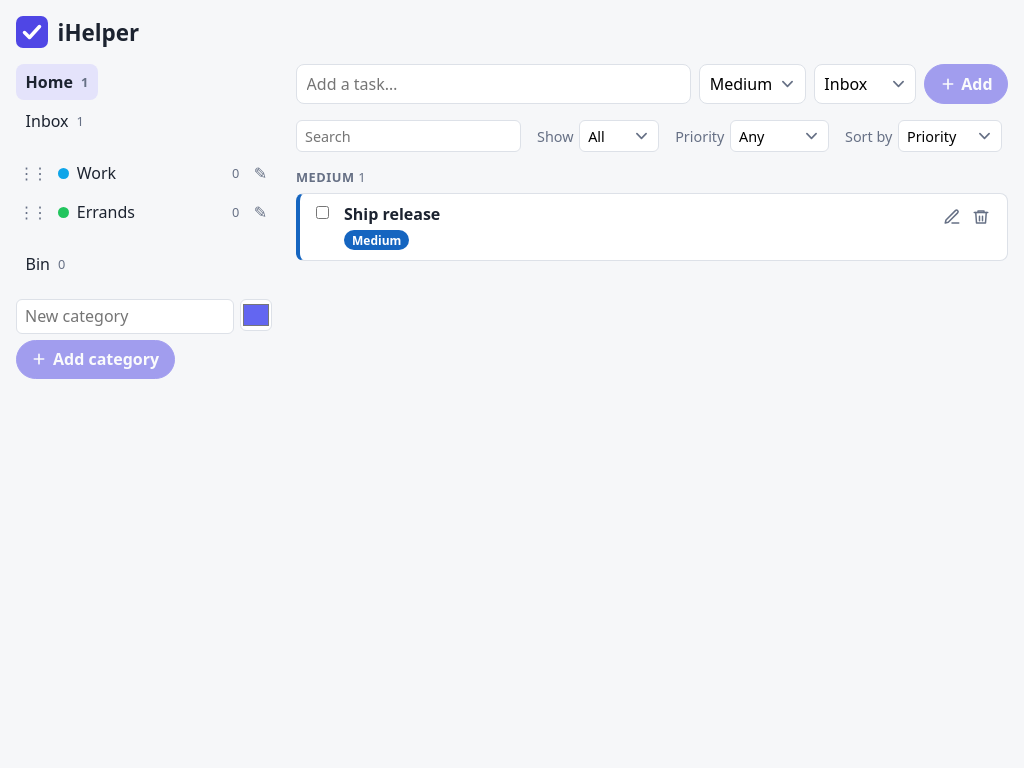
Test: App › deleting from the editor also moves the task to the bin
The width and height of the screenshot is (1024, 768).
Click the button named "Edit Ship release": (952, 217) x1=938 y1=203 x2=966 y2=231
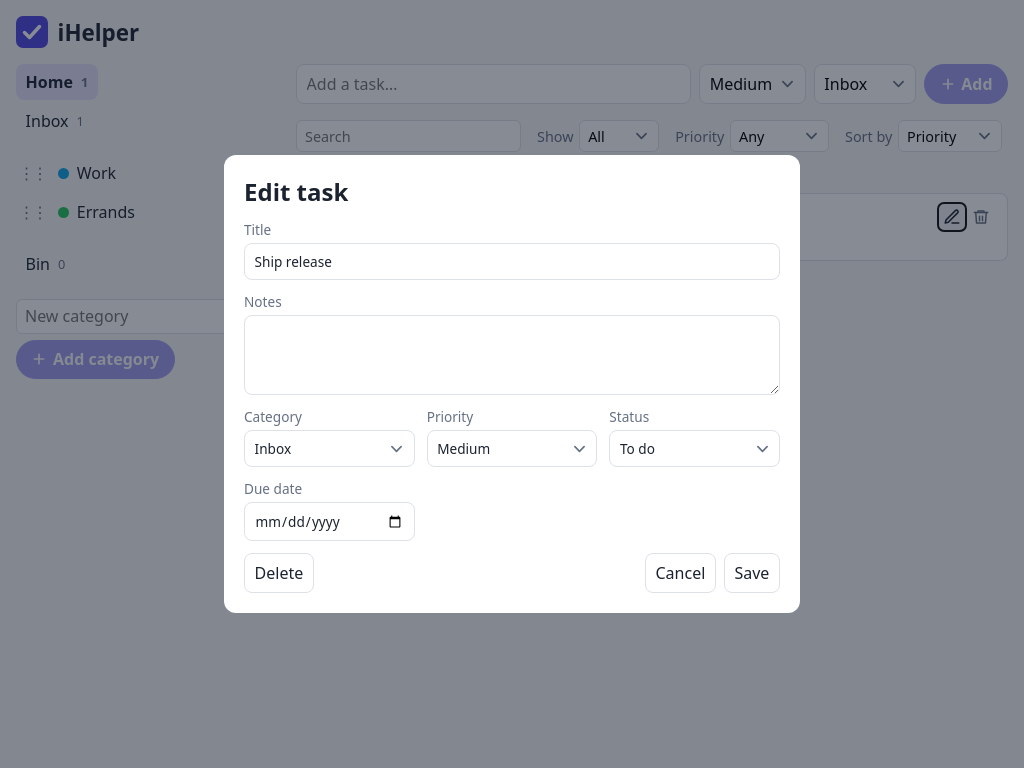
Click the button "Delete": (279, 573) x1=244 y1=553 x2=314 y2=593
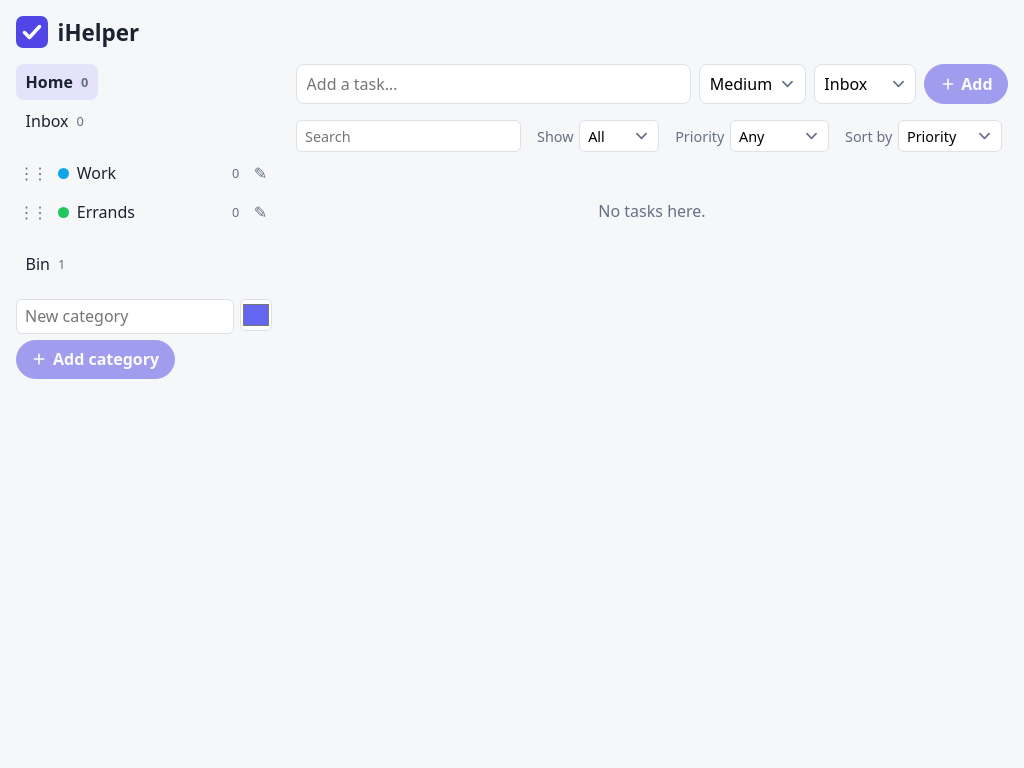
Expected: the dialog is gone
